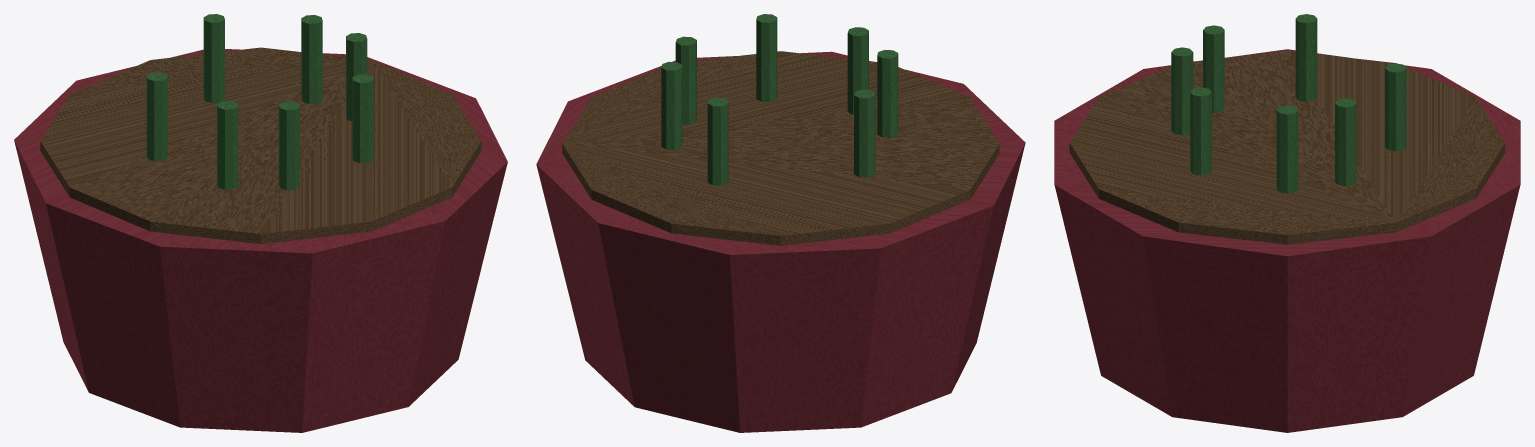
File: herb_harvested.glb
3 renders of one model, left to right at view 1: azimuth 30°, elevation 25°; view 2: azimuth 150°, elevation 25°; view 3: azimuth 270°, elevation 25°, orthographic.
Visible parts, largest first — view 1: pot, soil, stem (×7); view 2: pot, soil, stem (×7); view 3: pot, soil, stem (×7).
Boxes of the visible parts, left/top/right/bottom form: pot: left=14, top=49, right=507, bottom=432; soil: left=40, top=47, right=481, bottom=243; stem (×7): left=146, top=14, right=373, bottom=190; pot: left=536, top=51, right=1025, bottom=432; soil: left=562, top=51, right=999, bottom=245; stem (×7): left=661, top=14, right=898, bottom=185; pot: left=1054, top=49, right=1520, bottom=432; soil: left=1069, top=51, right=1505, bottom=244; stem (×7): left=1171, top=14, right=1406, bottom=193.
Bounding box in the file's own units: 0.9 × 0.58 × 0.856.
1 material, 1 textured.
